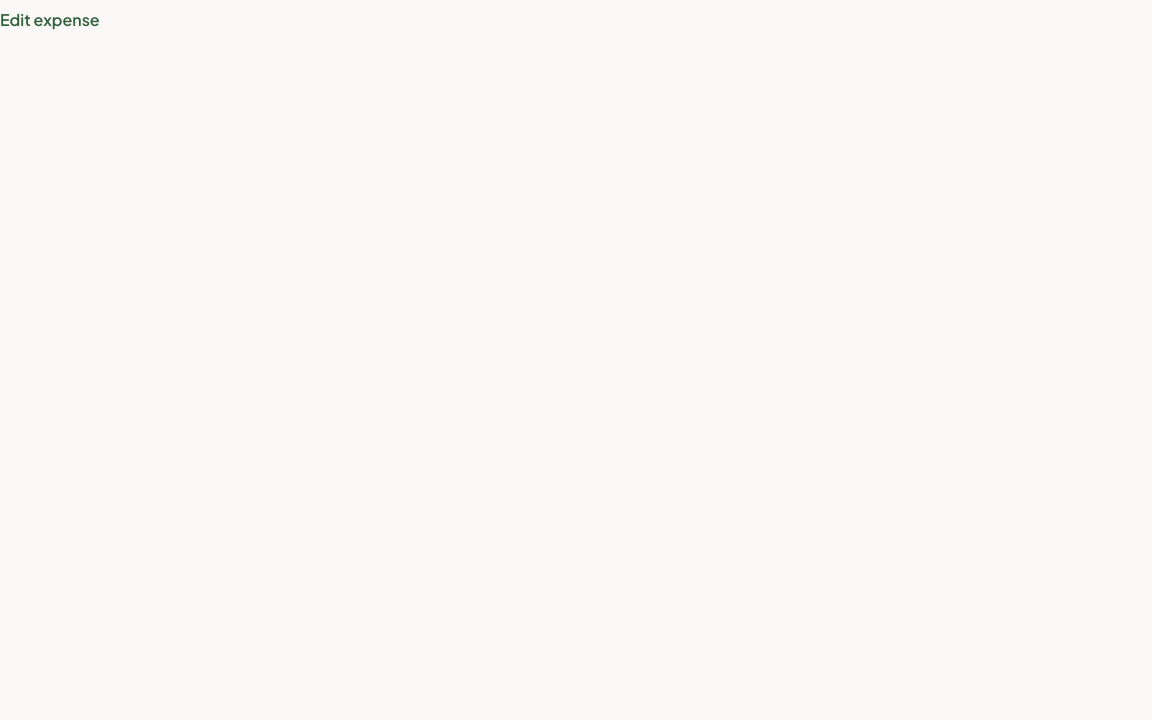
Financial metadata editing › updates expense metadata without modifying amounts
Click the button "Edit expense" at point(50, 20), box x1=0 y1=8 x2=100 y2=32
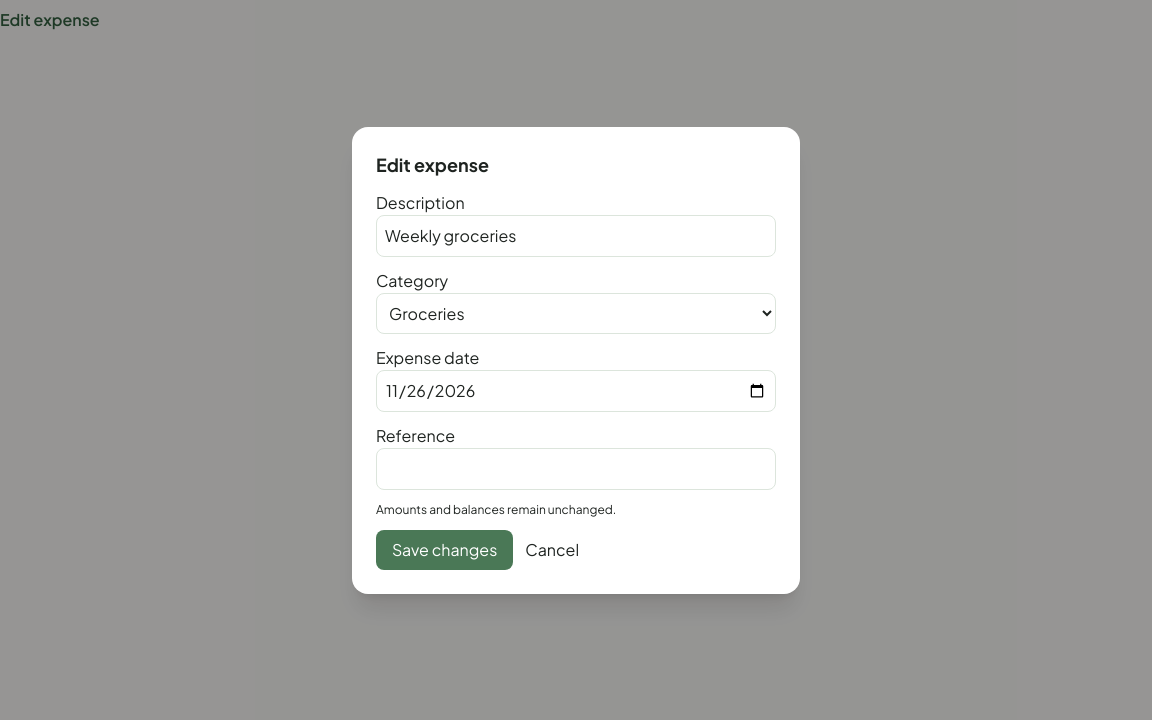
Replace the text in the field labelled "Description" with "Updated groceries" at point(576, 236), box x1=376 y1=214 x2=776 y2=256
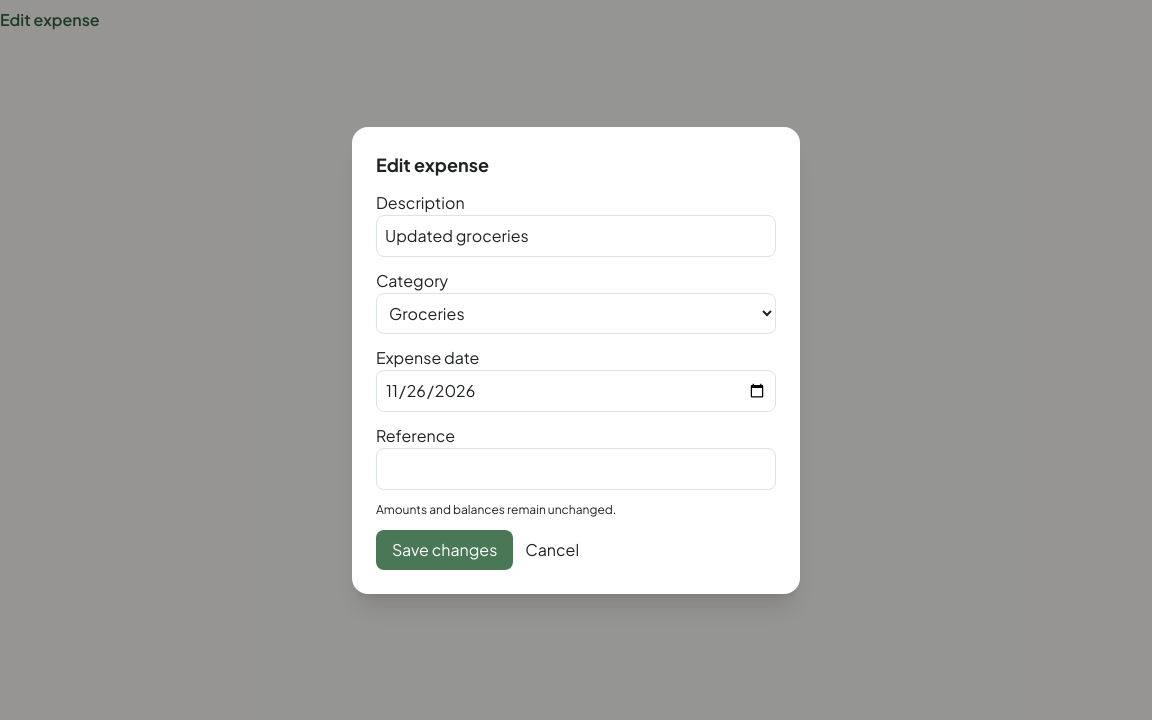
Select "Dining" in the dropdown labelled "Category" at point(576, 313), box x1=376 y1=292 x2=776 y2=334
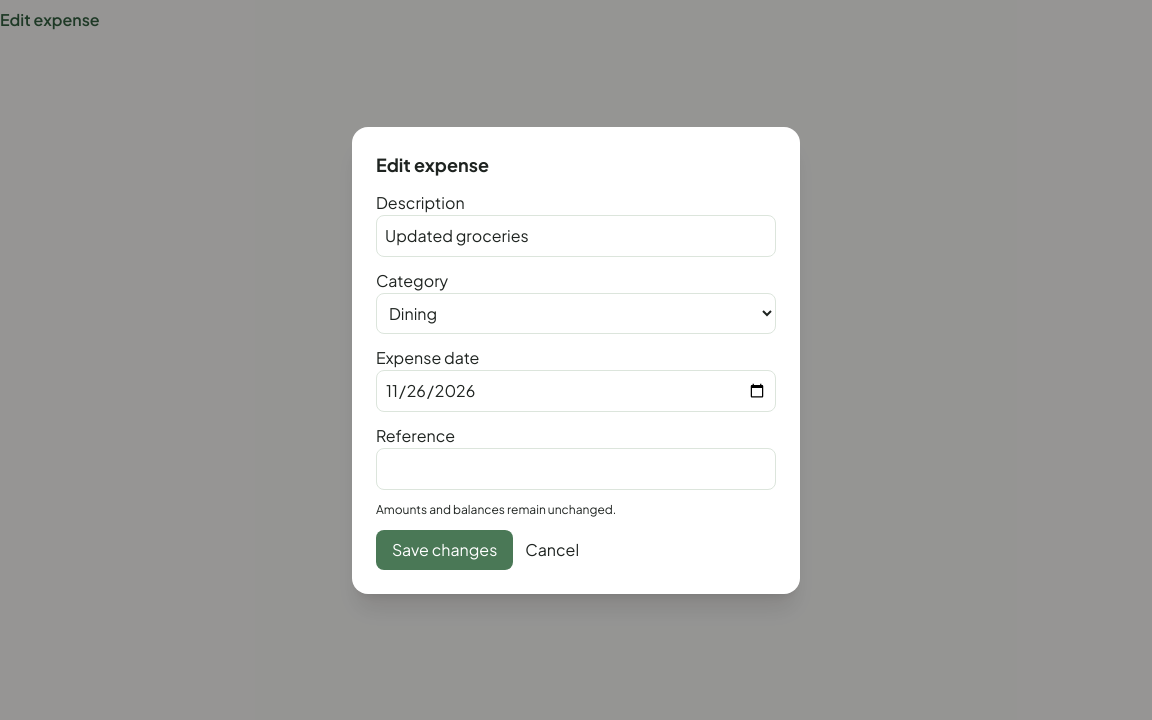
Type "2026-11-27" into the date field labelled "Expense date" at point(576, 390), box x1=376 y1=370 x2=776 y2=412
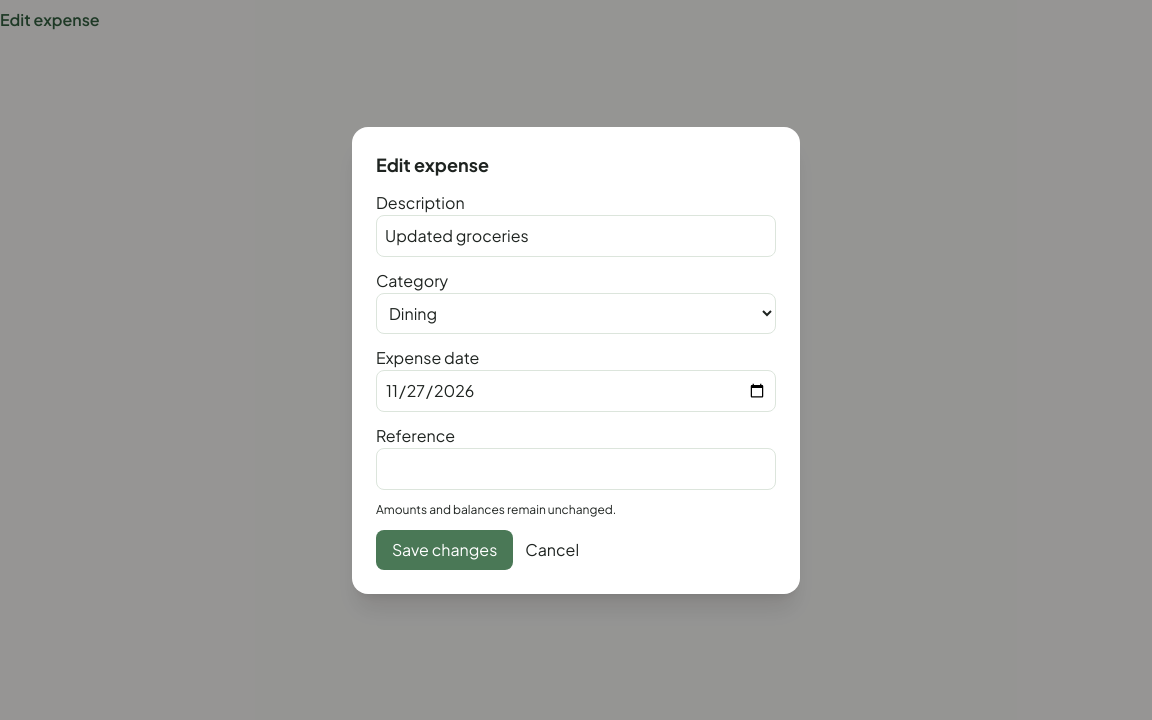
Type "Receipt 123" into the field labelled "Reference" at point(576, 468), box x1=376 y1=448 x2=776 y2=490
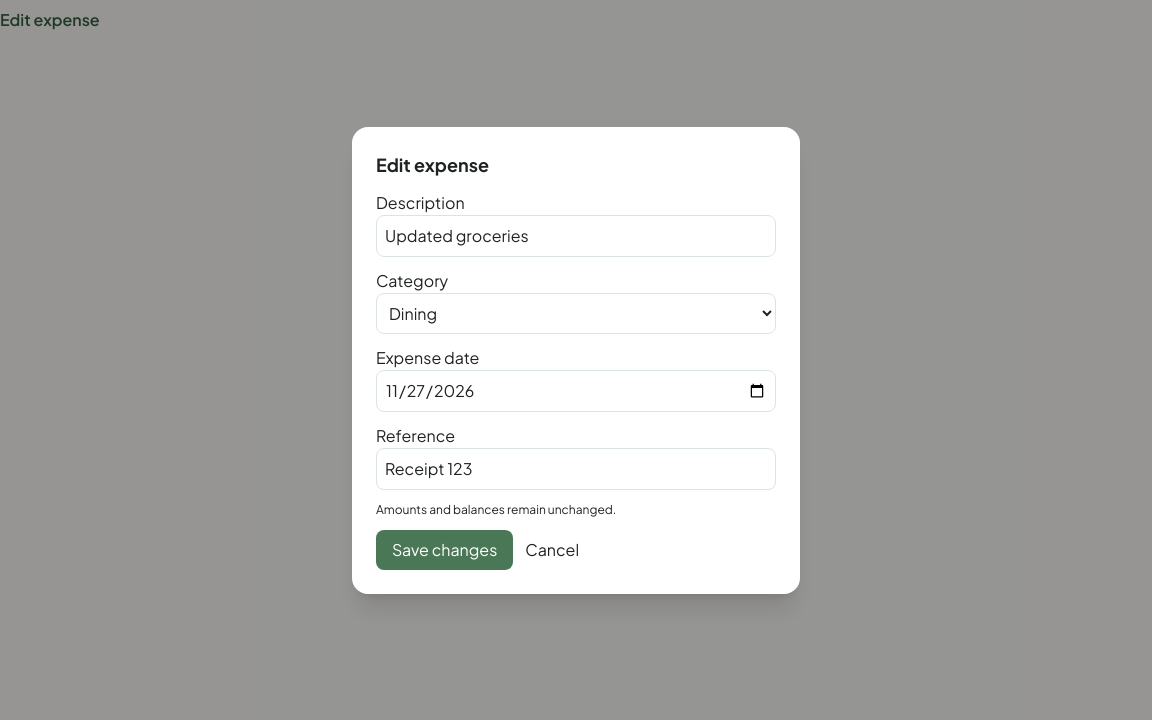
Click the button "Save changes" at point(445, 550), box x1=376 y1=530 x2=513 y2=570
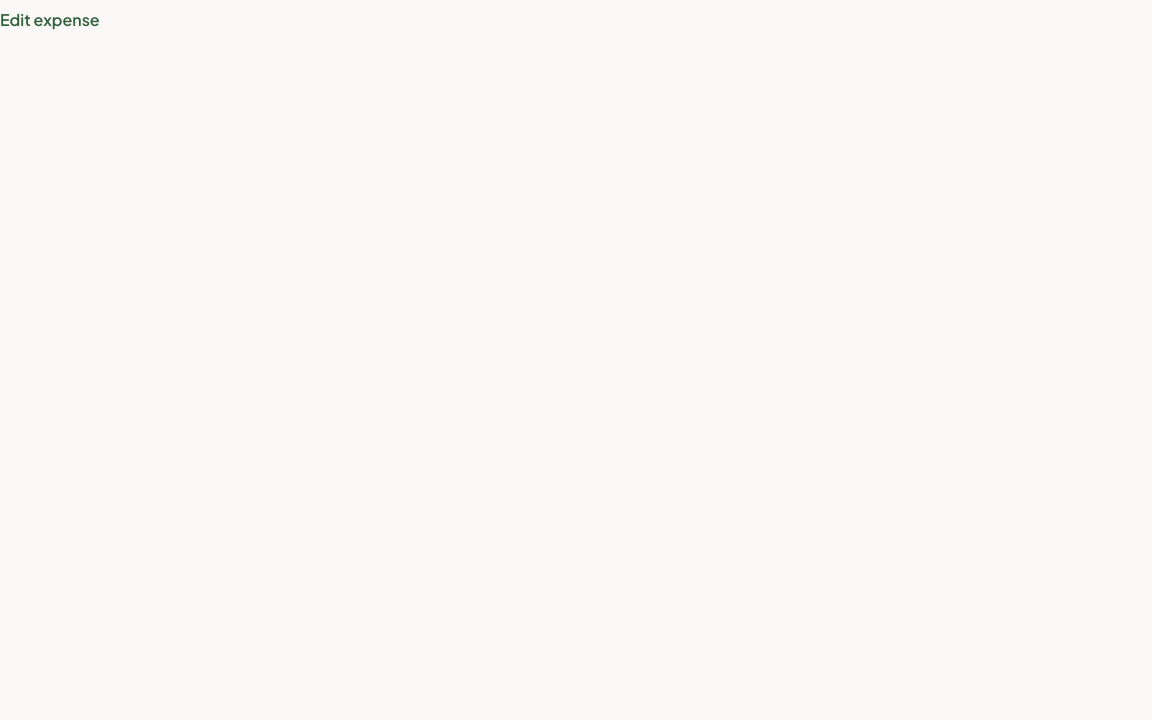
Expected: the dialog is gone
